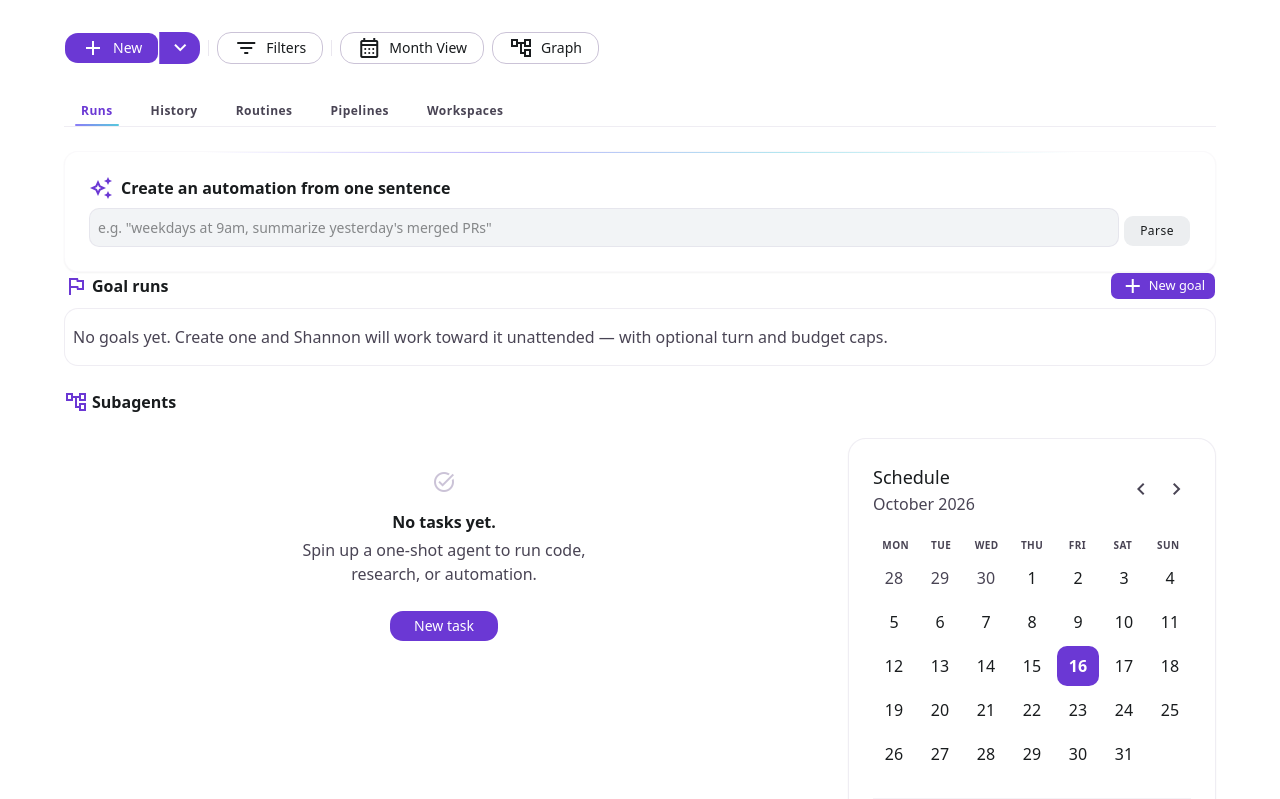
Test: Tasks Enhanced › toggles filters on click
What coordinates should you click on to do the following:
click the button "Filters"
I would click on:
 (270, 48)
Its box is [217, 32, 323, 64].
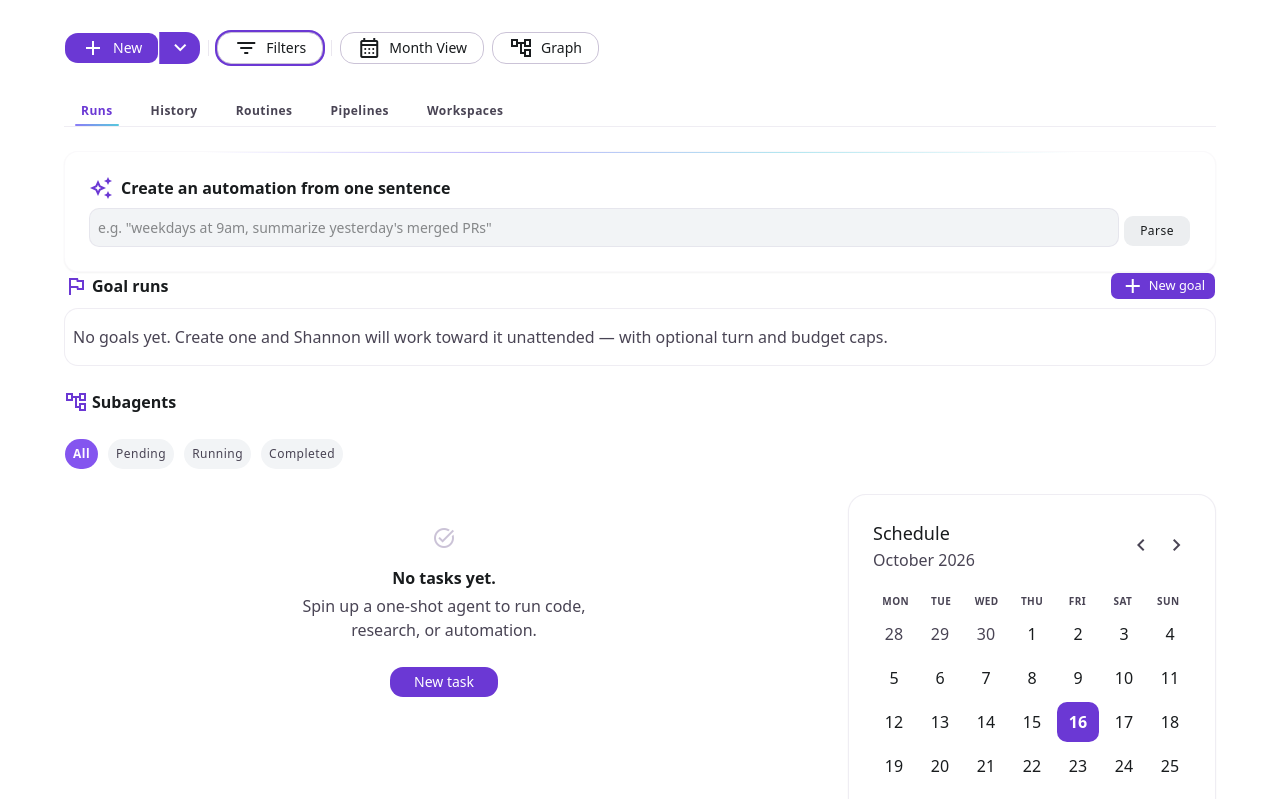
Now the button "All" is shown, box [64, 438, 99, 470]
